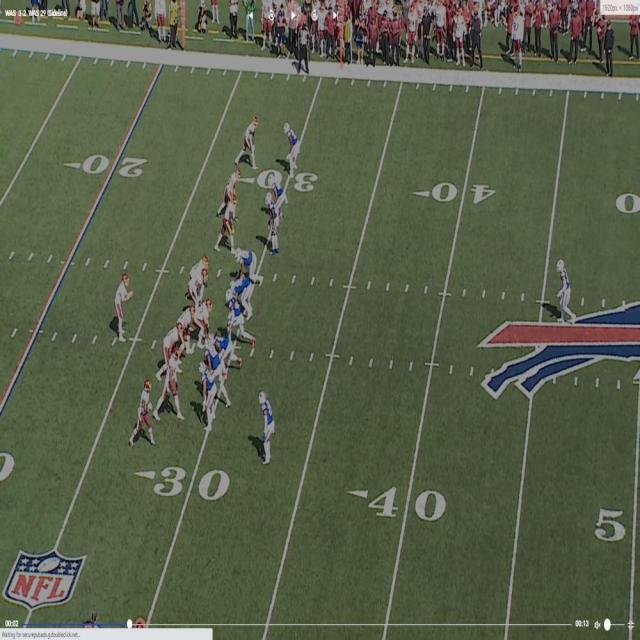center: (198, 300, 214, 346)
db: (265, 192, 283, 256), (554, 257, 572, 321), (259, 389, 273, 462), (284, 120, 298, 173), (270, 175, 287, 205)
lb: (199, 360, 214, 430), (228, 293, 246, 343)
qb: (115, 274, 132, 340)
skill: (164, 353, 184, 421), (132, 377, 153, 440), (218, 202, 238, 251), (242, 114, 260, 163), (224, 166, 242, 200)
